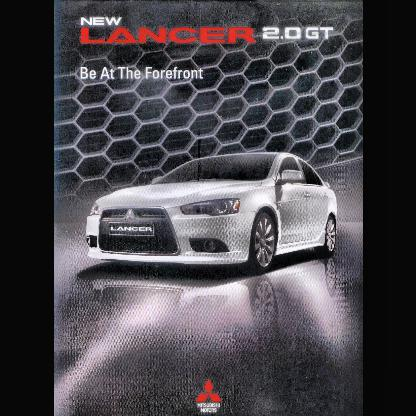Mitsubishi Lancer Sedan 2012: (81, 150, 337, 280)
